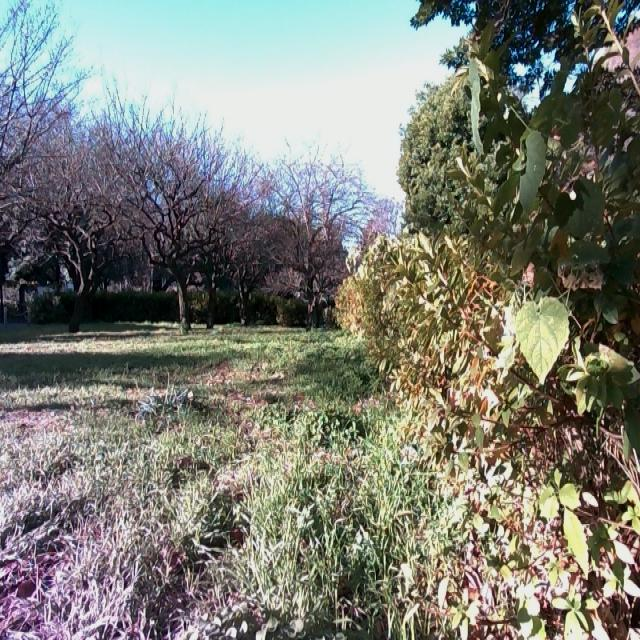bush: (382, 66, 640, 578)
tree: (34, 140, 119, 332), (125, 136, 206, 335), (266, 159, 342, 329), (218, 177, 270, 335)
